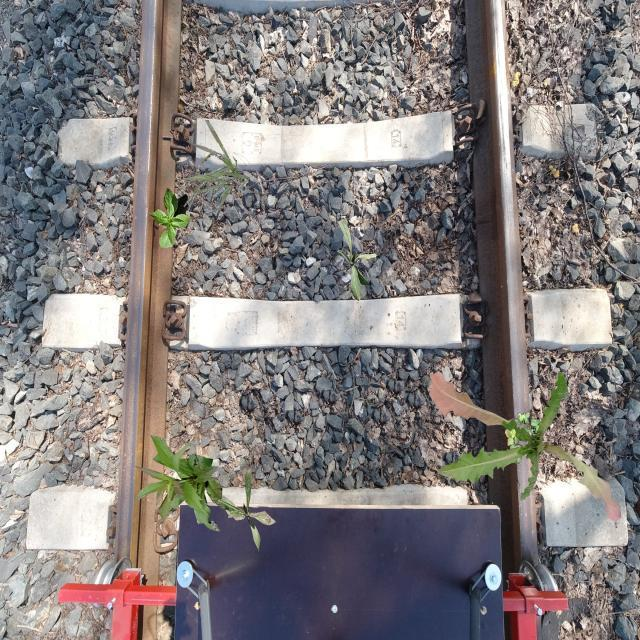Plant: (429, 370, 622, 522), (134, 435, 222, 532), (177, 120, 250, 214), (213, 470, 277, 554), (337, 219, 377, 302), (149, 188, 191, 248), (505, 410, 542, 465)
